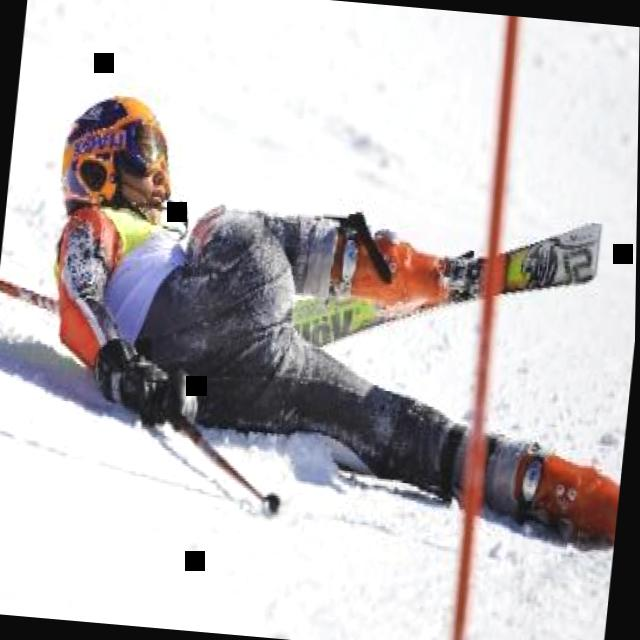Fall-Detected: (16, 56, 639, 550)
